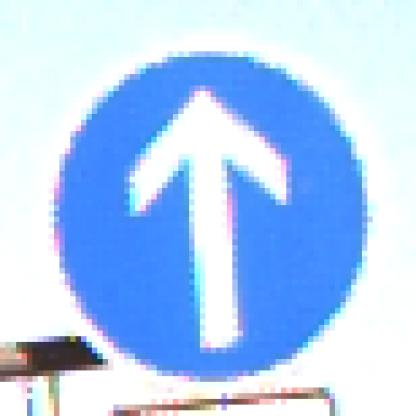AheadOnly: (39, 35, 379, 383)
